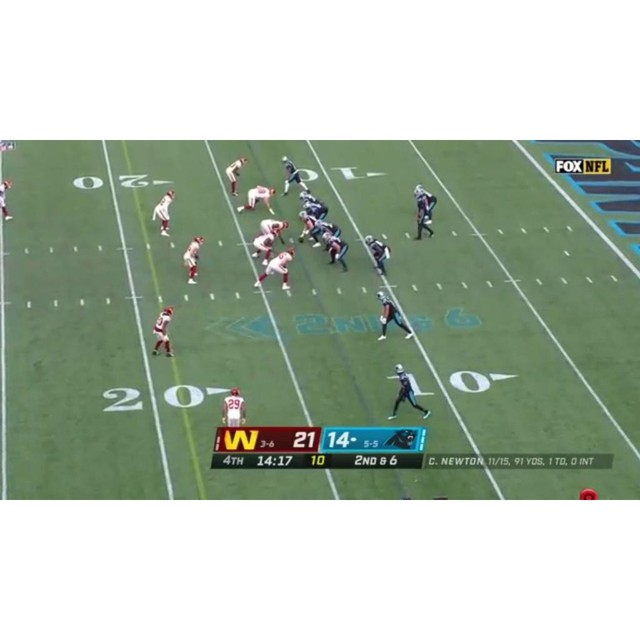american-football-player: (386, 364, 431, 420), (375, 291, 414, 341), (253, 247, 296, 291), (413, 184, 437, 237), (249, 228, 282, 266), (237, 186, 277, 216), (281, 156, 310, 197), (152, 306, 175, 357), (322, 232, 350, 273), (364, 235, 392, 276), (153, 190, 176, 237), (183, 236, 205, 283), (222, 386, 247, 427), (225, 157, 248, 196), (258, 219, 289, 246), (298, 210, 320, 246), (0, 178, 14, 221)
